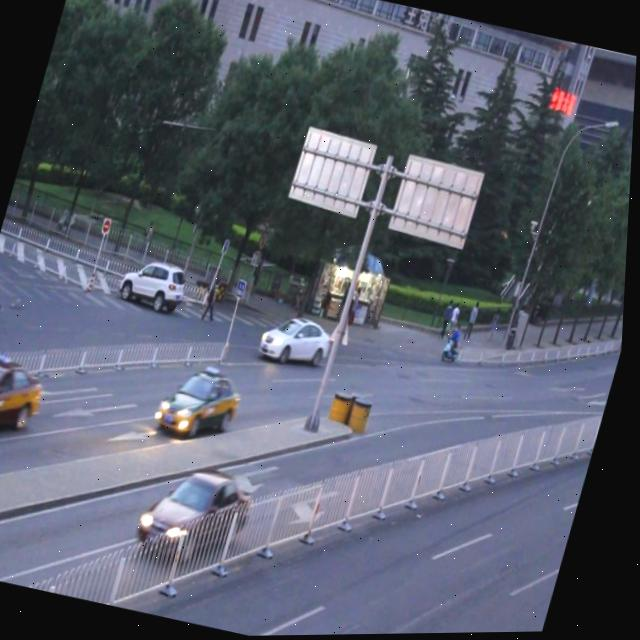car: (136, 454, 263, 572), (156, 359, 247, 447), (0, 343, 55, 454), (260, 309, 340, 372), (118, 253, 192, 313)
